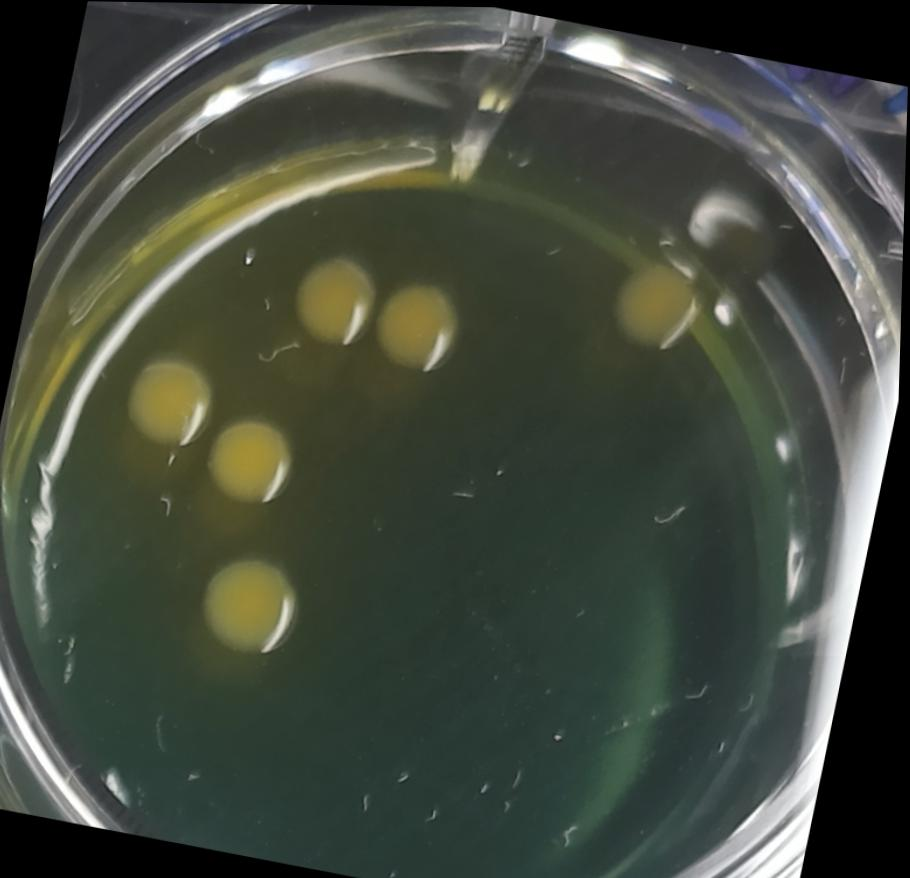vangil: (190, 538, 325, 670), (194, 402, 325, 515), (276, 247, 389, 364), (598, 259, 713, 357), (113, 345, 214, 454), (360, 272, 469, 372)
